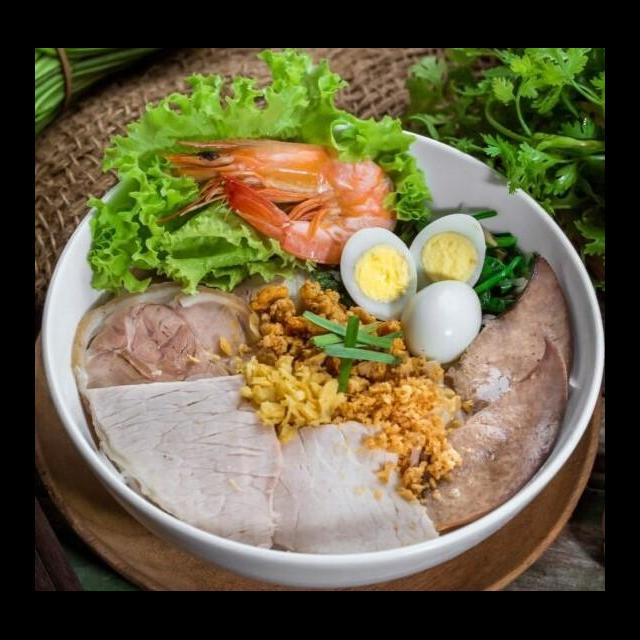gan: (417, 330, 573, 538), (435, 244, 578, 426)
thit heo: (79, 368, 286, 556), (66, 272, 270, 428), (263, 414, 443, 556)
tom: (148, 134, 402, 270)
trung: (336, 224, 423, 324), (397, 276, 485, 372), (400, 210, 490, 300)
